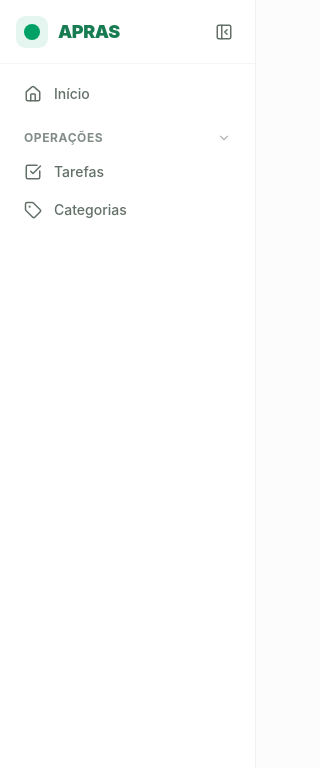
Test: Sidebar component › allows expanding and collapsing individual groups via accordion header
The width and height of the screenshot is (320, 768).
Check: the link "Tarefas" is shown, box 24,163 -> 104,181
// Collapse the group
Click the button "Operações" at [128, 138], box 12,124 -> 243,152
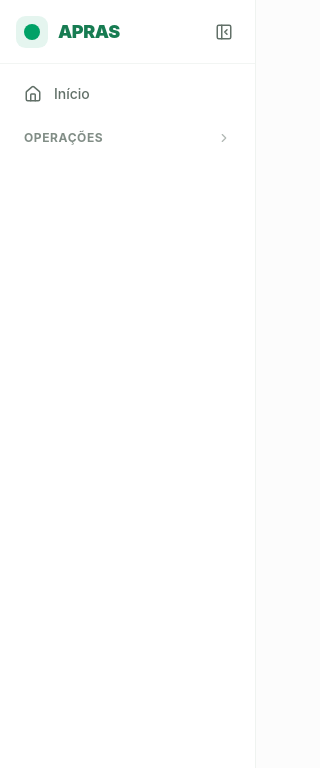
Check: the link "Tarefas" is gone
// Expand the group again
Click the button "Operações" at [128, 138], box 12,124 -> 243,152
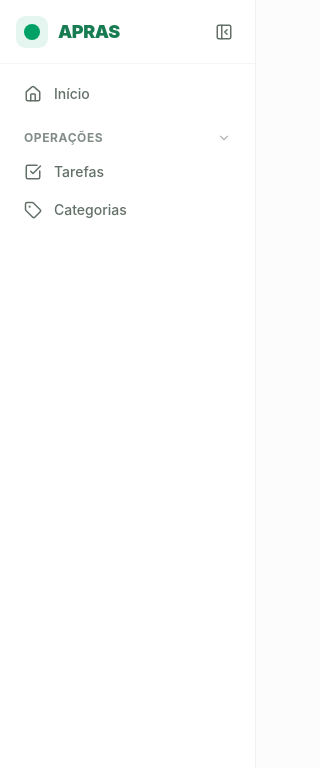
Check: the link "Tarefas" is shown, box 24,163 -> 104,181
